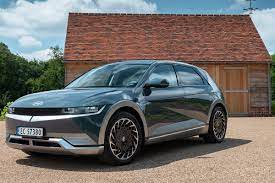Honda Ioniq: (6, 56, 231, 167)
